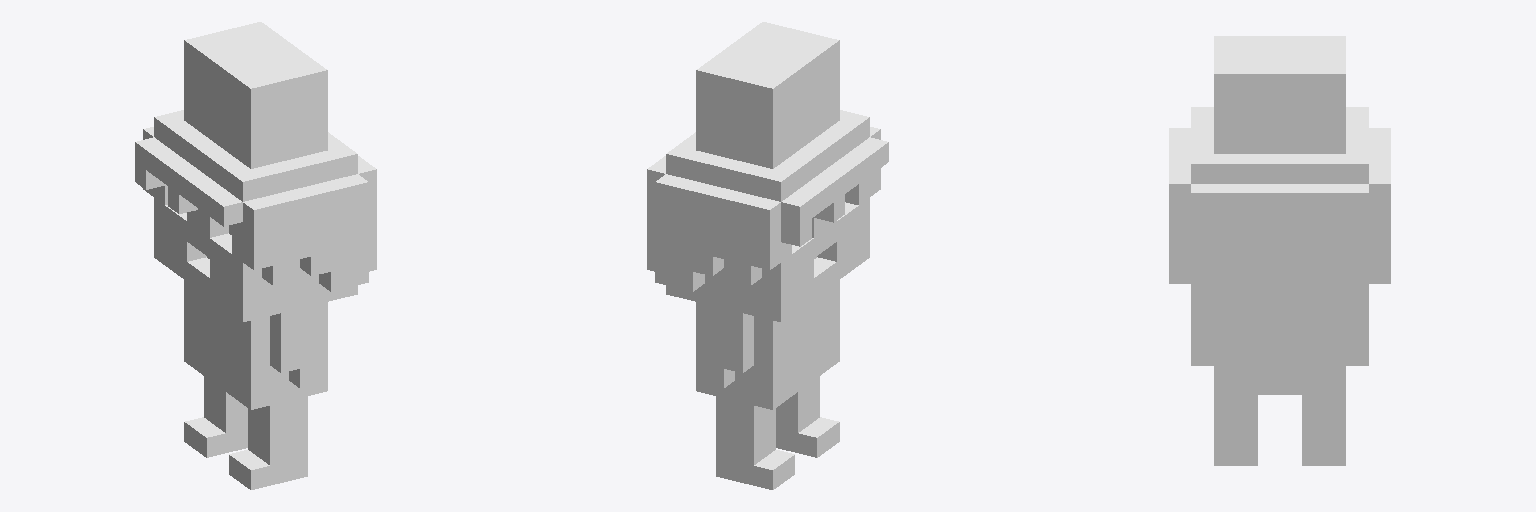
The model's file is Char03.obj.
3 renders of one model, left to right at view 1: azimuth 30°, elevation 25°; view 2: azimuth 150°, elevation 25°; view 3: azimuth 270°, elevation 25°, orthographic.
Visible parts, largest first — view 1: object 1; view 2: object 1; view 3: object 1.
Part boxes in pixels (left/top/right/bottom): object 1: left=135, top=22, right=376, bottom=489; object 1: left=647, top=22, right=888, bottom=489; object 1: left=1169, top=36, right=1390, bottom=465.
Size of the model in its own units: 0.8 by 2 by 1.